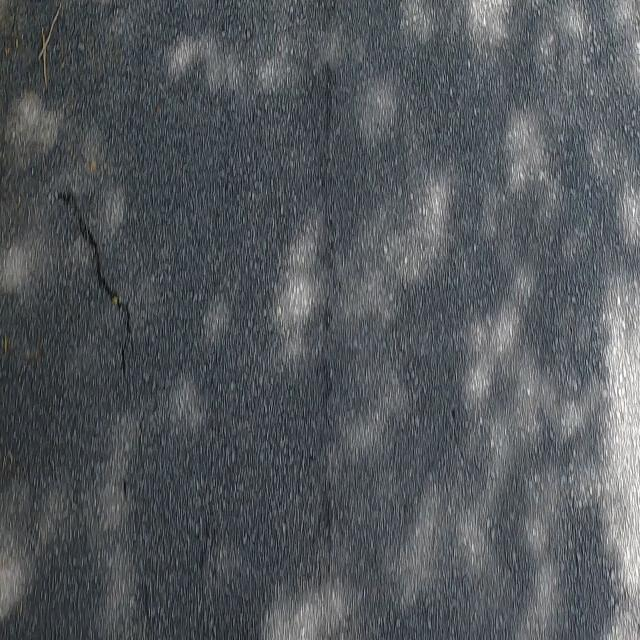Retak-Memanjang: (53, 185, 135, 384)
